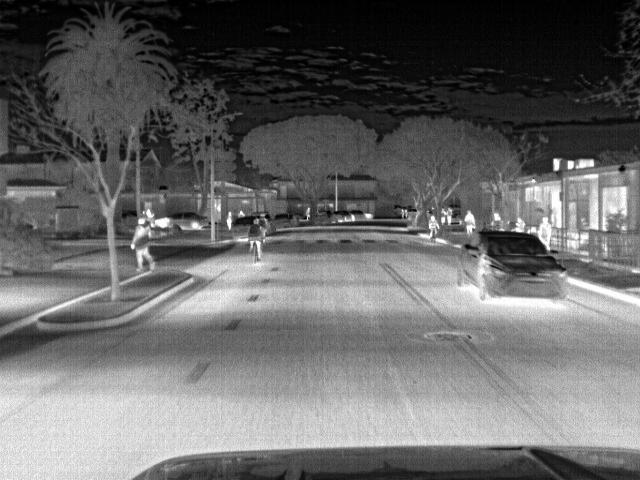car: (455, 229, 572, 303), (169, 210, 212, 230), (229, 214, 255, 240), (347, 208, 375, 221), (273, 212, 293, 228), (332, 209, 351, 223)
person: (128, 214, 158, 270), (248, 218, 262, 260), (539, 214, 554, 248), (428, 215, 442, 243), (463, 209, 477, 236)
